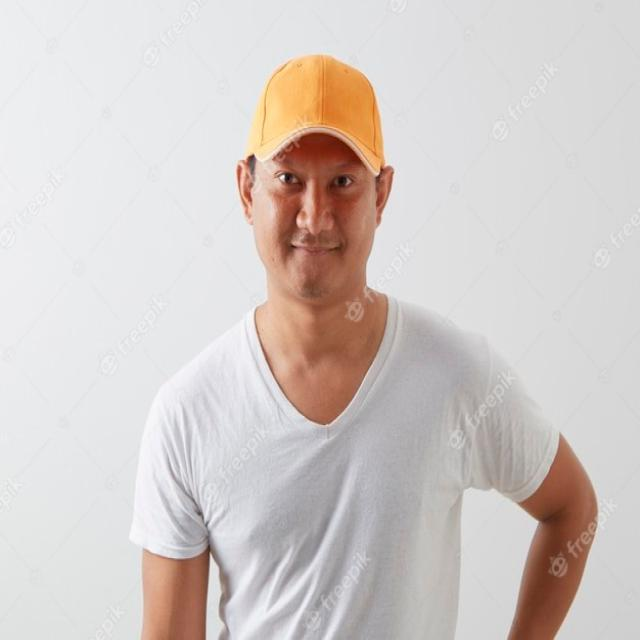3_gorra: (246, 52, 386, 178)
